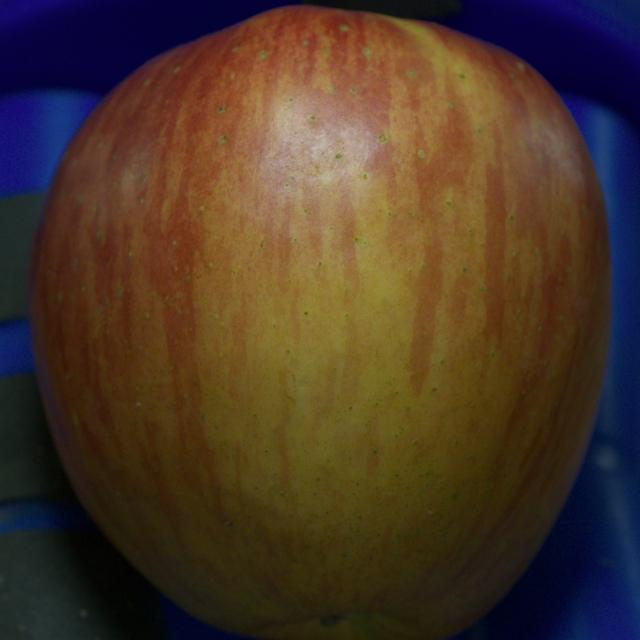apple: (29, 7, 611, 639)
